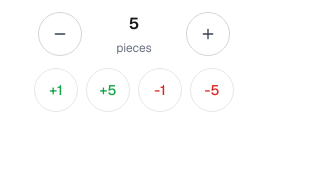
Test case: QuantityControls › shows loading state during async operations
The width and height of the screenshot is (320, 172).
Click the button named "Increase by 1".
click(208, 34)  # box [186,12,230,56]
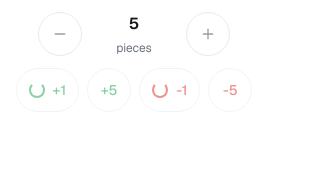
Now the button named "Increase by 1" is disabled, box [186,12,230,56]
